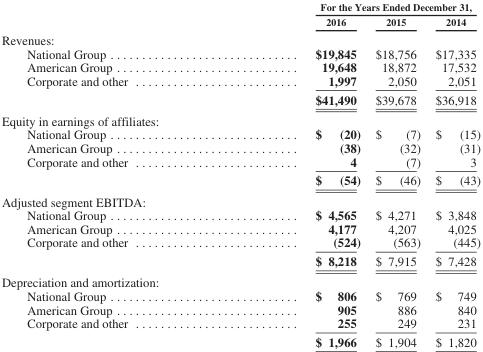table: (0, 0, 479, 348)
table column: (0, 0, 221, 348), (221, 0, 367, 348), (367, 0, 427, 348), (427, 0, 479, 348)
table column header: (0, 0, 479, 30)
table projected row header: (0, 109, 479, 127), (0, 190, 479, 207), (0, 271, 479, 288), (0, 30, 479, 46)
table row: (0, 89, 479, 109), (0, 170, 479, 190), (0, 251, 479, 271), (0, 109, 479, 127), (0, 190, 479, 207), (0, 271, 479, 288), (0, 315, 479, 332), (0, 14, 479, 30), (0, 30, 479, 46), (0, 73, 479, 89), (0, 154, 479, 170), (0, 235, 479, 251), (0, 332, 479, 348), (0, 0, 479, 14), (0, 59, 479, 73), (0, 140, 479, 154), (0, 207, 479, 221), (0, 221, 479, 235), (0, 288, 479, 302), (0, 46, 479, 59), (0, 127, 479, 140), (0, 302, 479, 315)
table spanning cell: (221, 0, 479, 14)
